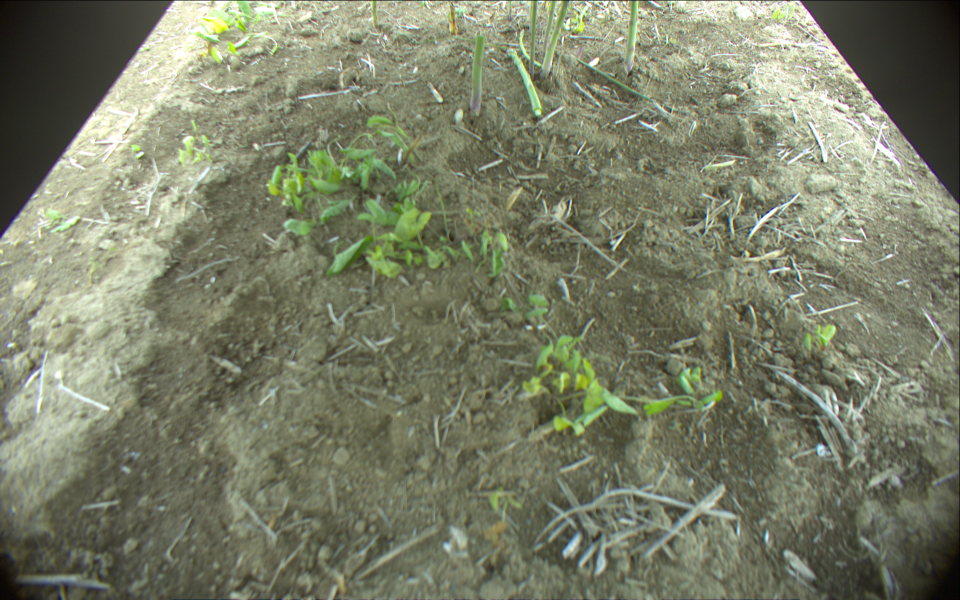aspa: (571, 58, 657, 101), (505, 50, 542, 120), (543, 1, 568, 74), (624, 1, 644, 72), (518, 29, 550, 72), (468, 32, 483, 118), (540, 1, 559, 55), (528, 1, 537, 79), (367, 1, 380, 28), (505, 1, 515, 22)
